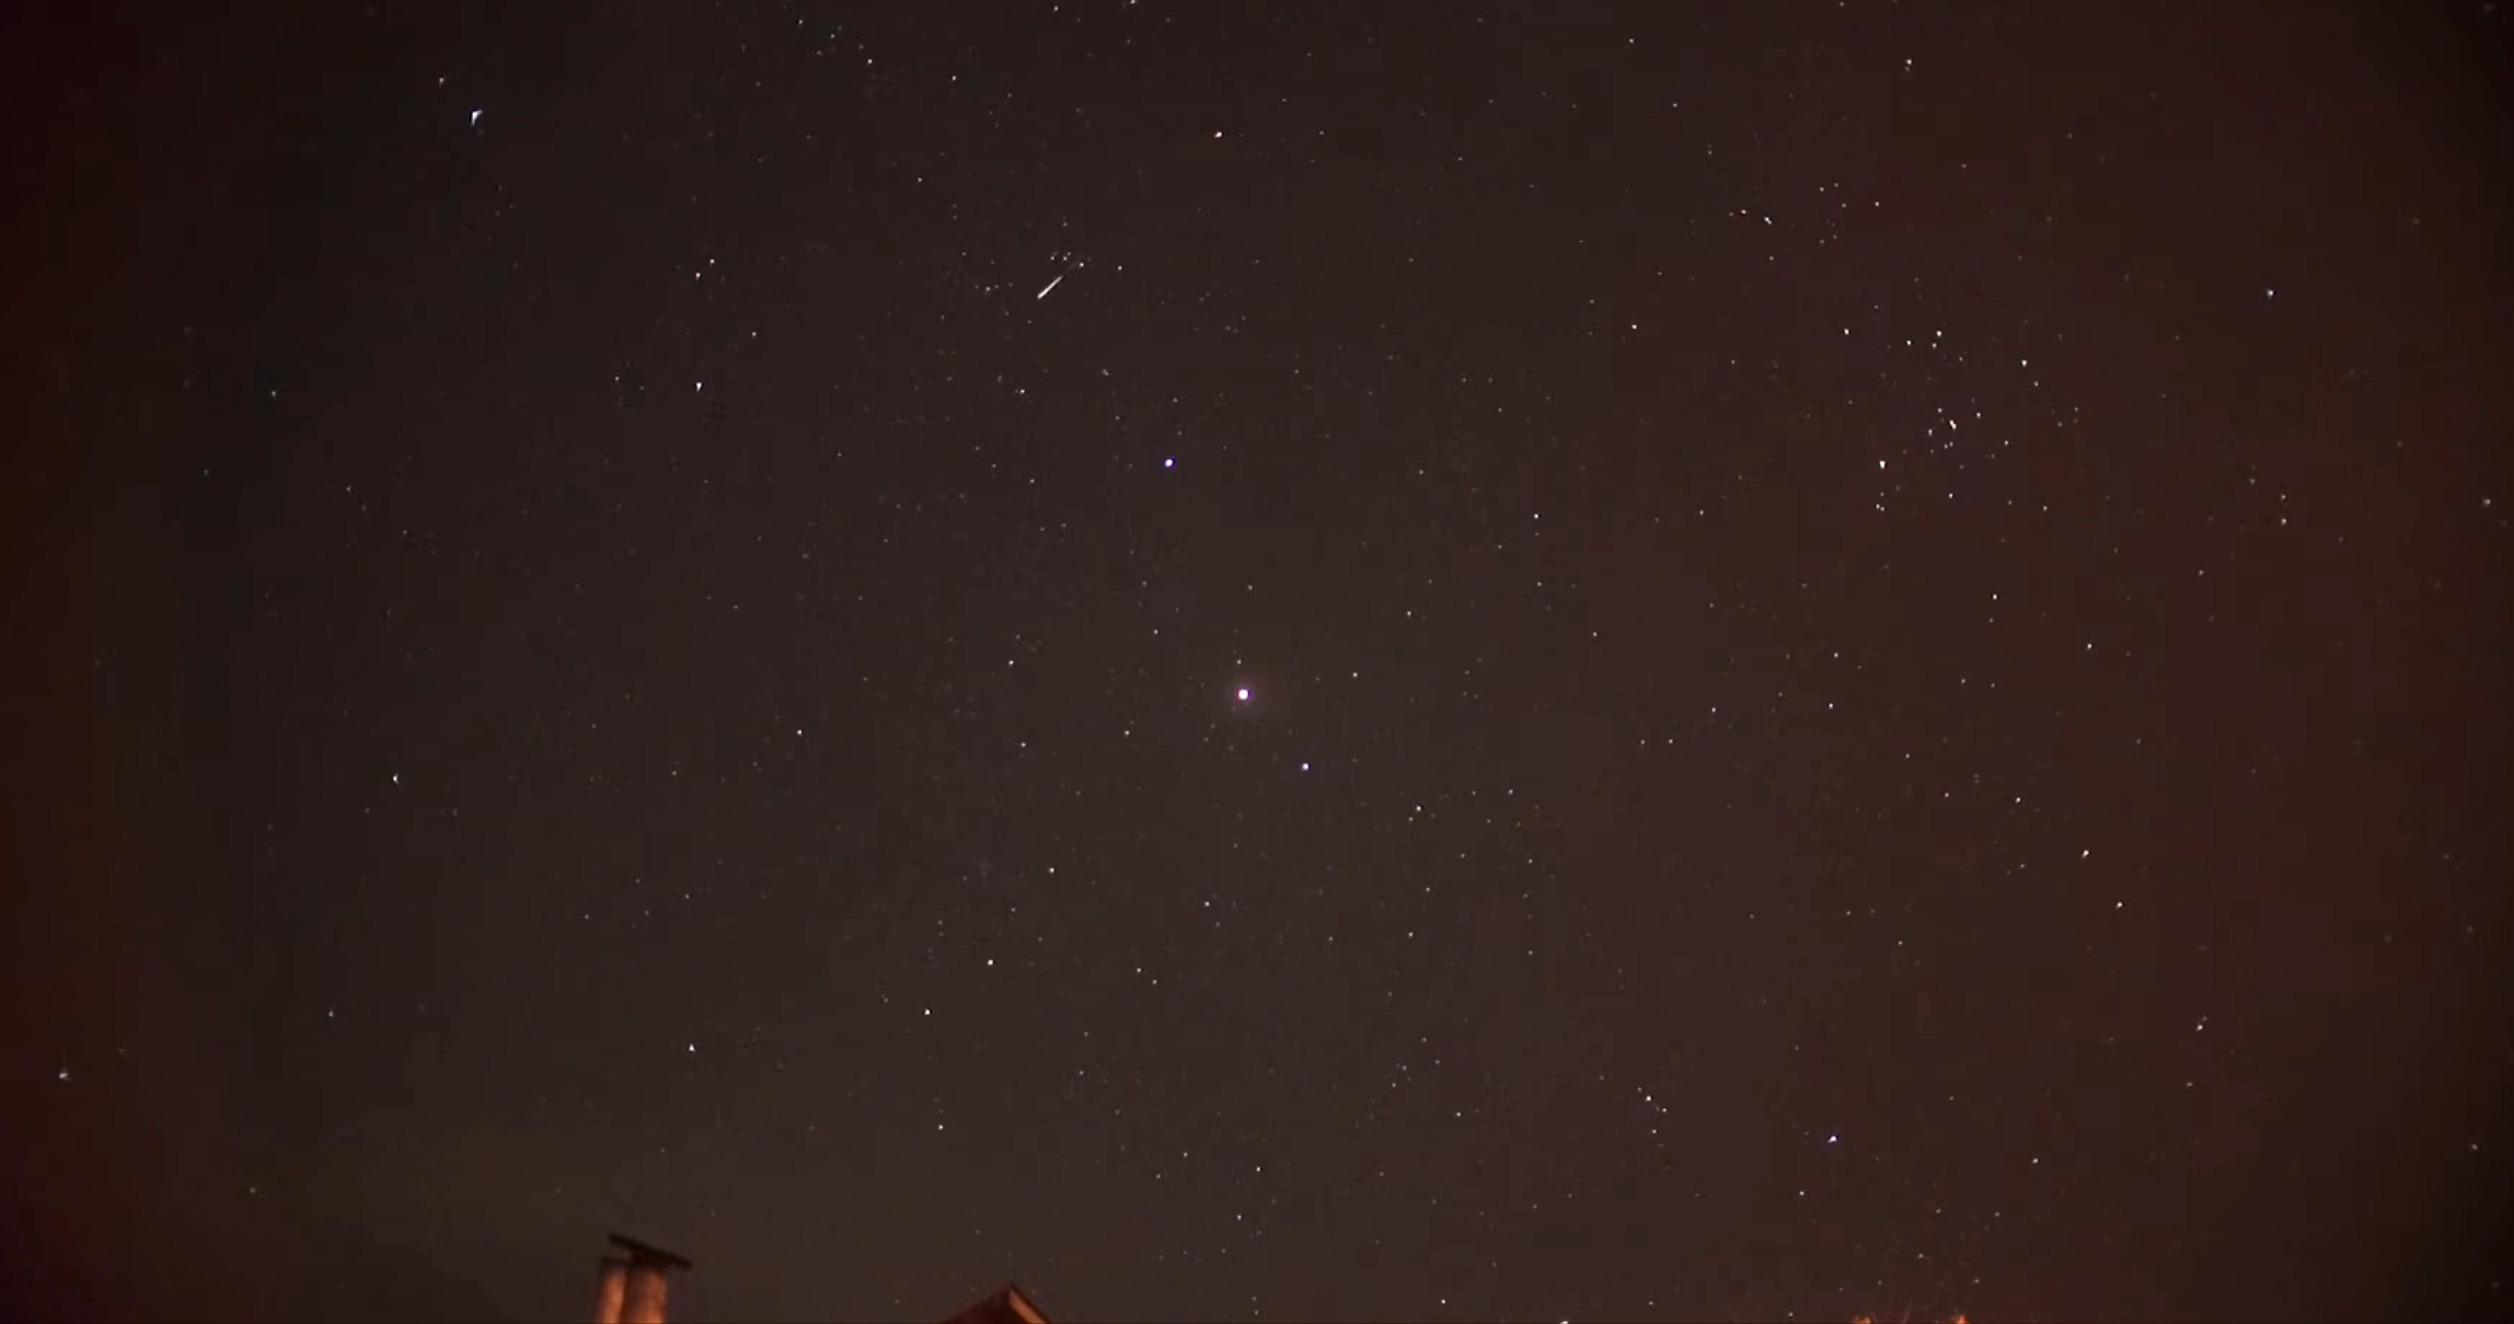meteorite: (1028, 258, 1076, 323)
